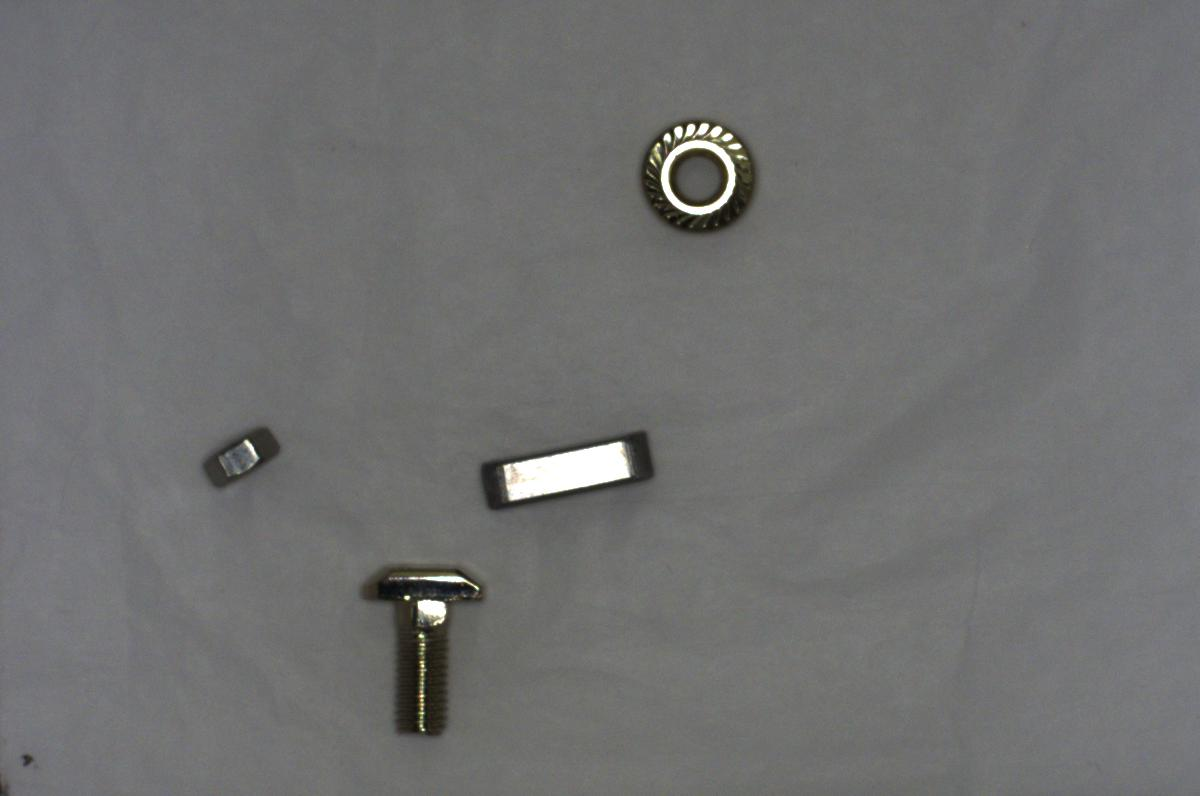Flange nut: (628, 113, 764, 235)
Hexagon nut: (200, 420, 285, 498)
Keybar: (465, 423, 666, 521)
T-shaped screw: (357, 552, 485, 746)
